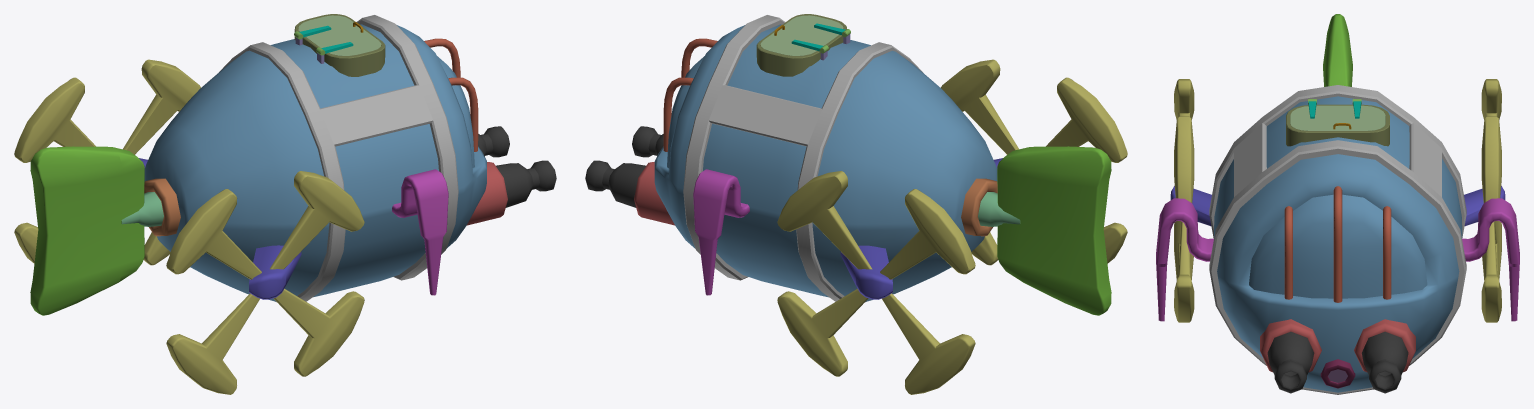
Rendered from sous_marin_katelo.fbx.
3 renders of one model, left to right at view 1: azimuth 30°, elevation 25°; view 2: azimuth 150°, elevation 25°; view 3: azimuth 270°, elevation 25°, orthographic.
Visible parts, largest first — view 1: Corps, Helices, Gouvernail, Ossature_metallique, Pinces, Canons, Plaque, Support_helices, Support, Support_canons, Base_gouvernail, Barres_cockpit (+1 smaller); view 2: Corps, Helices, Gouvernail, Ossature_metallique, Pinces, Canons, Plaque, Support_helices, Support, Support_canons, Base_gouvernail, Barres_cockpit (+1 smaller); view 3: Corps, Ossature_metallique, Helices, Pinces, Canons, Barres_cockpit, Support_canons, Plaque, Gouvernail, Support, Support_helices, Support_lumiere.
Part boxes in pixels (box(x1,y1,x2,y2)): Corps: box(144, 24, 486, 301); Helices: box(14, 59, 364, 394); Gouvernail: box(30, 146, 144, 315); Ossature_metallique: box(219, 15, 458, 302); Pinces: box(392, 169, 448, 295); Canons: box(478, 126, 556, 207); Plaque: box(298, 15, 381, 55); Support_helices: box(139, 158, 301, 299); Support: box(294, 14, 385, 76); Support_canons: box(466, 162, 507, 225); Base_gouvernail: box(144, 178, 180, 236); Barres_cockpit: box(424, 38, 478, 151); Corps: box(654, 24, 997, 301); Helices: box(777, 59, 1127, 394); Gouvernail: box(997, 146, 1111, 315); Ossature_metallique: box(683, 15, 923, 302); Pinces: box(693, 169, 749, 295); Canons: box(585, 126, 663, 207); Plaque: box(760, 15, 843, 55); Support_helices: box(840, 158, 1002, 299); Support: box(756, 14, 846, 76); Support_canons: box(634, 162, 674, 225); Base_gouvernail: box(961, 178, 997, 236); Barres_cockpit: box(663, 38, 717, 151); Corps: box(1214, 96, 1462, 392); Ossature_metallique: box(1209, 85, 1466, 394); Helices: box(1174, 79, 1501, 322); Pinces: box(1156, 198, 1519, 321); Canons: box(1267, 331, 1408, 393); Barres_cockpit: box(1284, 186, 1391, 302); Support_canons: box(1260, 319, 1415, 372); Plaque: box(1290, 105, 1385, 130); Gouvernail: box(1323, 14, 1352, 86); Support: box(1286, 104, 1389, 146); Support_helices: box(1170, 186, 1505, 226); Support_lumiere: box(1320, 359, 1355, 388).
Size of the model in its own units: 588 by 297 by 371.
